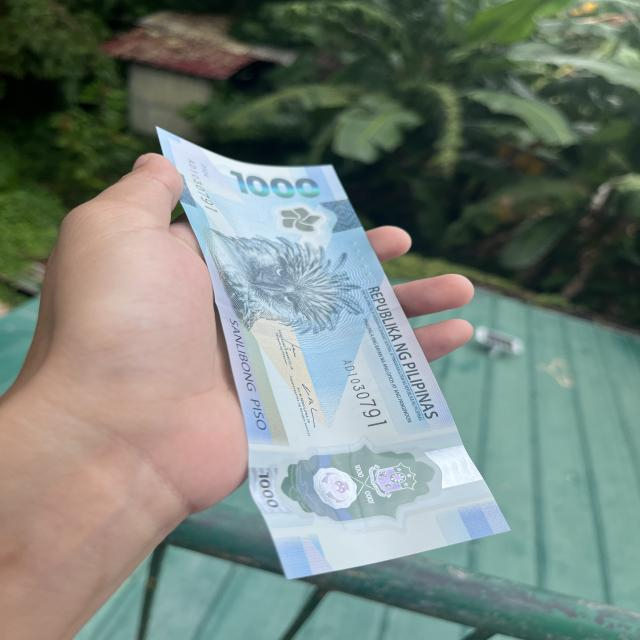clear_window: (243, 418, 501, 549)
eagle: (199, 234, 367, 323)
sampaguita: (251, 202, 333, 236)
serial_number: (333, 351, 395, 432)
